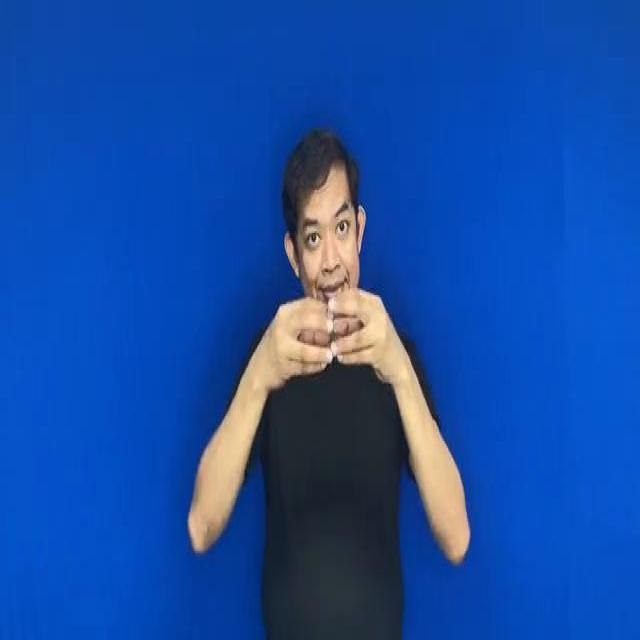egg: (237, 259, 400, 398)
